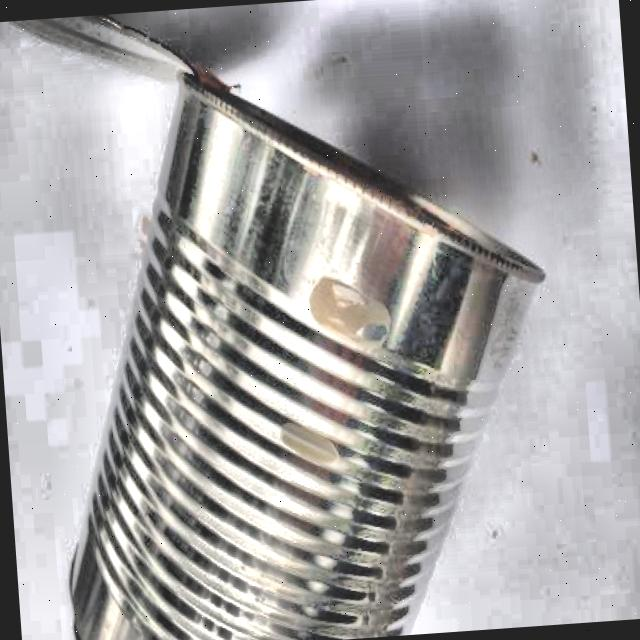metal: (3, 0, 567, 640)
